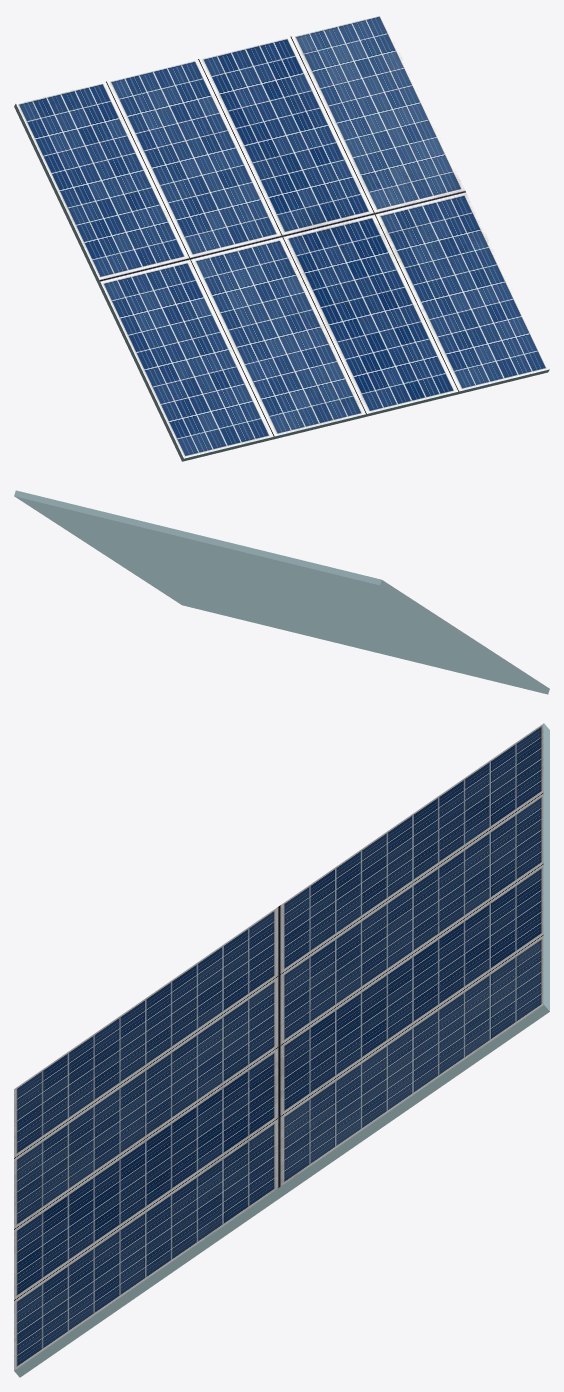
The model's file is solar.glb.
The picture shows the model from 3 angles, top to bottom: view 1: azimuth 30°, elevation 25°; view 2: azimuth 150°, elevation 25°; view 3: azimuth 270°, elevation 25°; orthographic projection. The views are drawn at different scales.
Parts seen in each view (by area): view 1: Solar1; view 2: Solar1; view 3: Solar1.
Part boxes in pixels (x1,y1,x2,y2): Solar1: (14, 14, 549, 461); Solar1: (14, 490, 549, 694); Solar1: (14, 723, 549, 1377).
Size of the model in its own units: 0.9991 by 0.6171 by 0.8035.
Materials: 2 (1 with a texture image).
